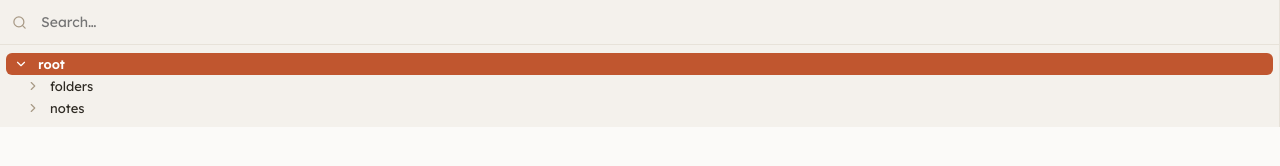
TreePane › search hides non-matching top-level nodes
Expected: the button "notes" is shown, x1=46 y1=97 x2=1273 y2=119
Type "keySound" into the field with placeholder "Search…" at (650, 22), box x1=33 y1=10 x2=1267 y2=34
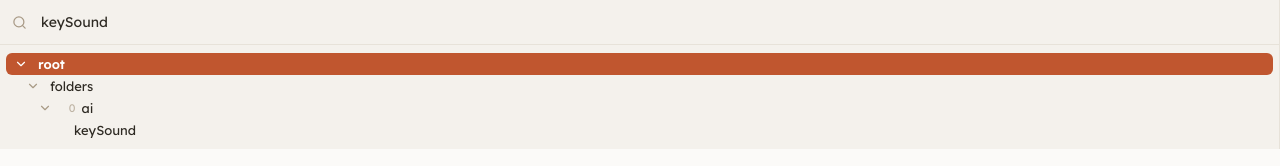
Expected: the button "folders" is shown, x1=46 y1=75 x2=1273 y2=97
Expected: the button "notes" is gone
